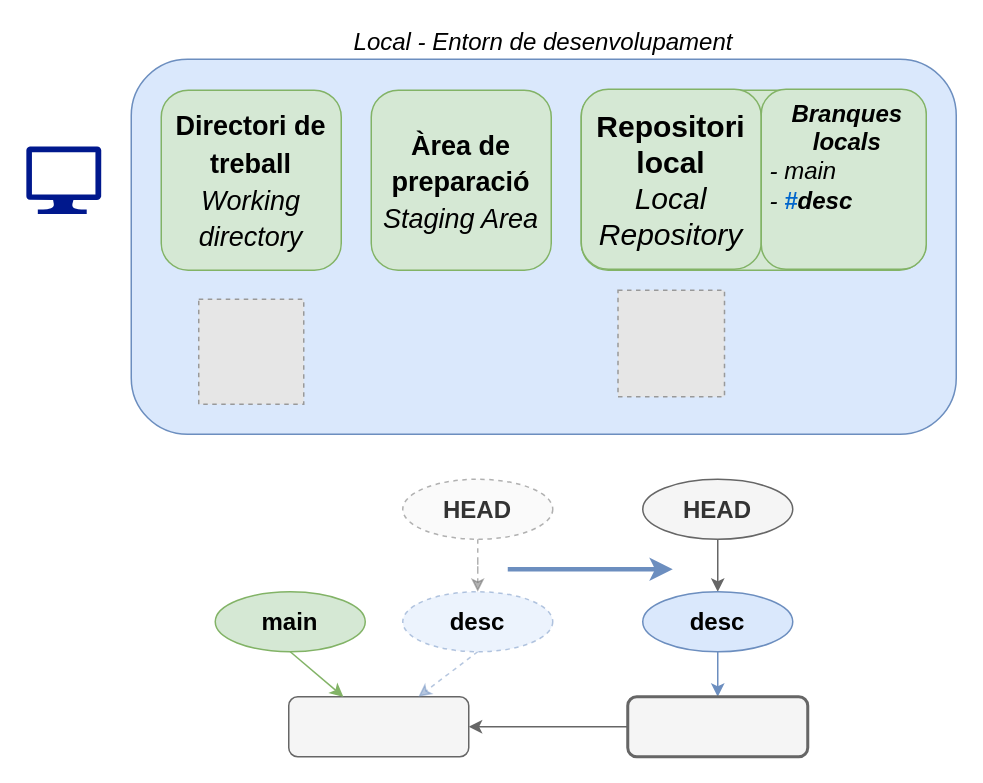
The diagram is 983 pixels wide and 783 high, and some of its shapes have lost their labels. Grey dashed boxes stand in for pictures. Each missing label, with the centre of its shape:
"Subtítol descripció 1b2c5d6" belongs at point 717,726.
"Tíŧol 0b1b3b4" belongs at point 378,726.
